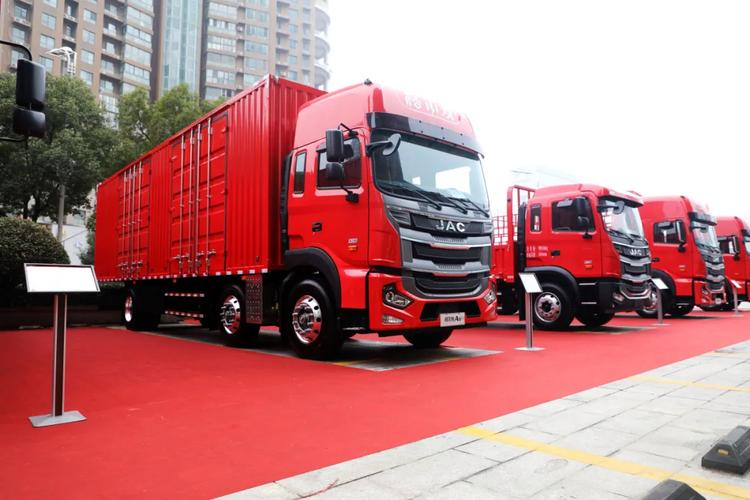卡车: (88, 77, 502, 387), (510, 165, 650, 355)
